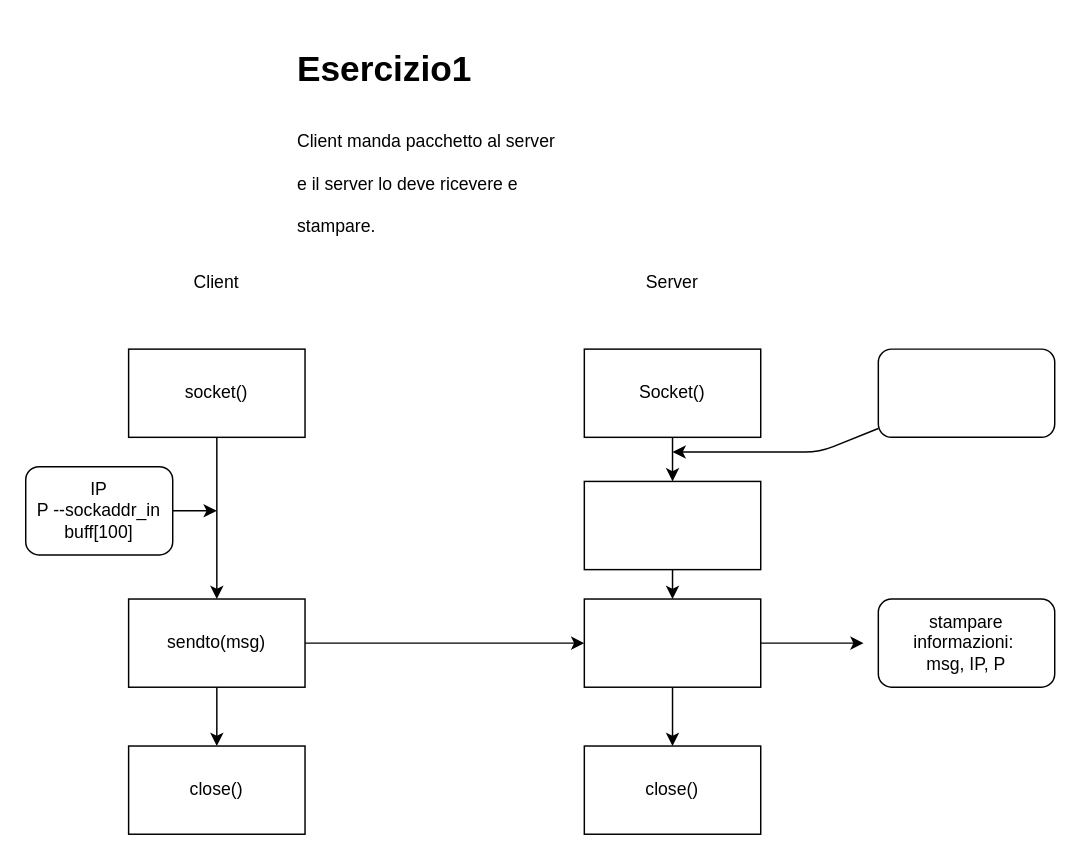
Some shapes in this 1080 by 860 pixel diagram are drawn without their labels. Here are the shapes that lost their labels. From the top down, the centre of each, then its label:
At point (966, 392): "P <-- sockaddr_in buff sockaddrin per il client".
At point (672, 525): "bind()".
At point (672, 642): "recvfrom(msg) //chiamata bloccante!!".
